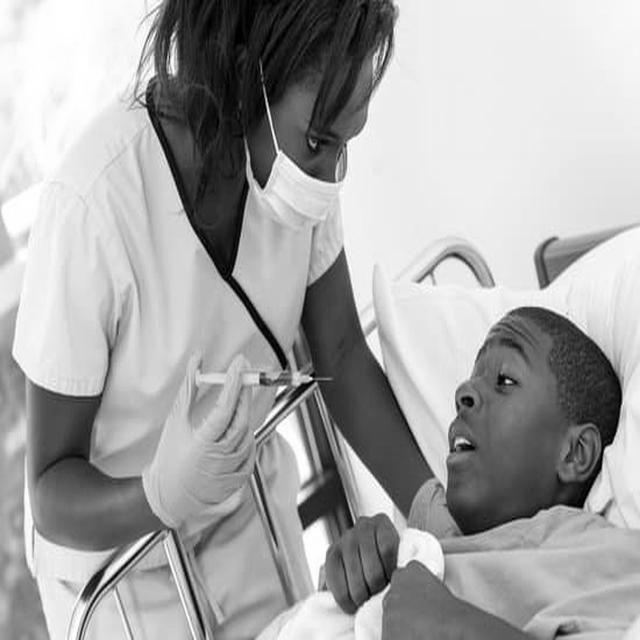Fear: (443, 321, 555, 513)
